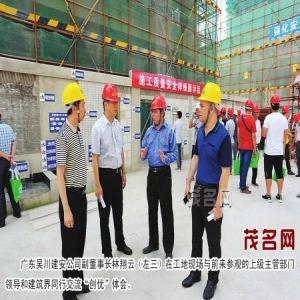red: (101, 81, 122, 123), (150, 94, 167, 127), (270, 94, 282, 117), (245, 98, 254, 117), (252, 103, 260, 120)
yellow: (61, 82, 88, 130), (198, 83, 223, 126)
